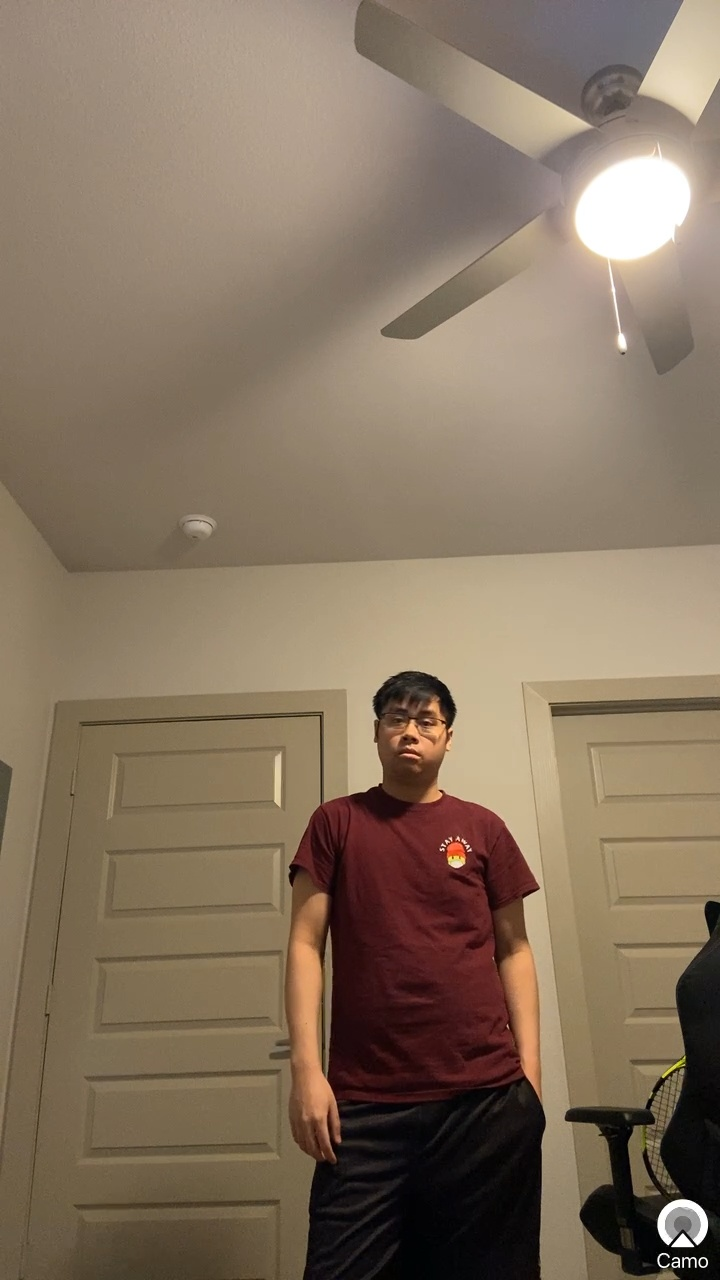Person: (262, 656, 587, 1280)
